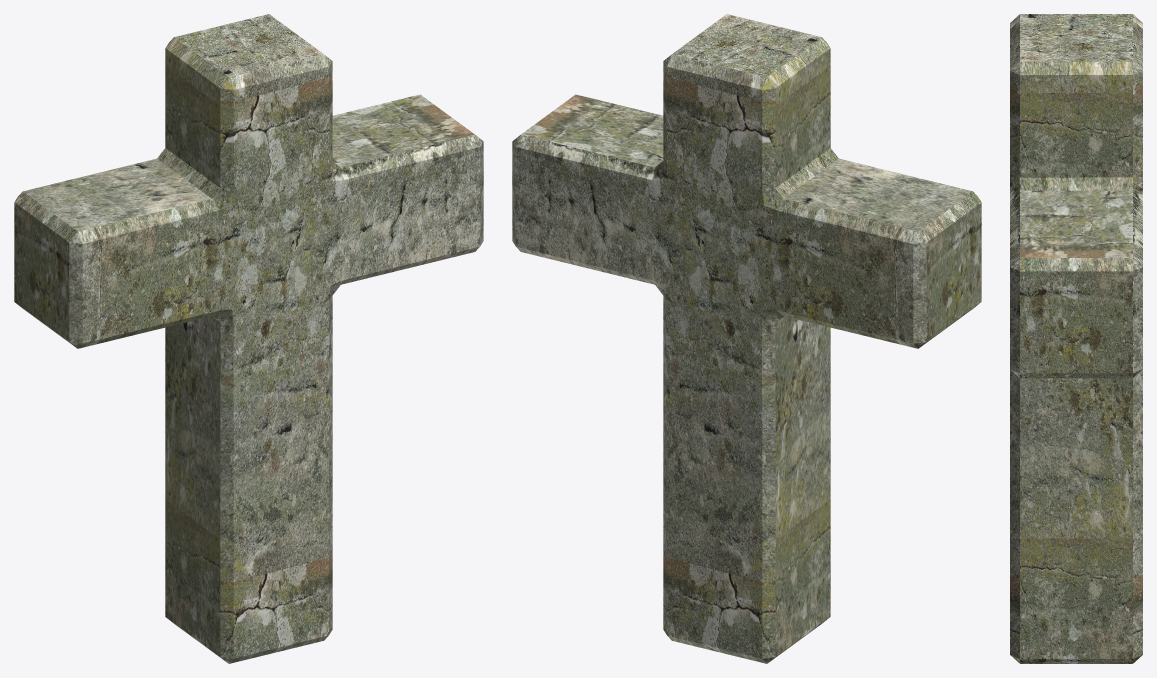
File: Grave Cross.fbx
The picture shows the model from 3 angles, left to right: view 1: azimuth 30°, elevation 25°; view 2: azimuth 150°, elevation 25°; view 3: azimuth 270°, elevation 25°; orthographic projection. The views are drawn at different scales.
Parts seen in each view (by area): view 1: pCube1; view 2: pCube1; view 3: pCube1.
Boxes of the visible parts, <box> form: pCube1: <box>14,14,483,663</box>; pCube1: <box>512,14,981,663</box>; pCube1: <box>1010,14,1142,663</box>.
Bounding box in the file's own units: 3.7 × 5 × 1.
Materials: 1 (1 with a texture image).
